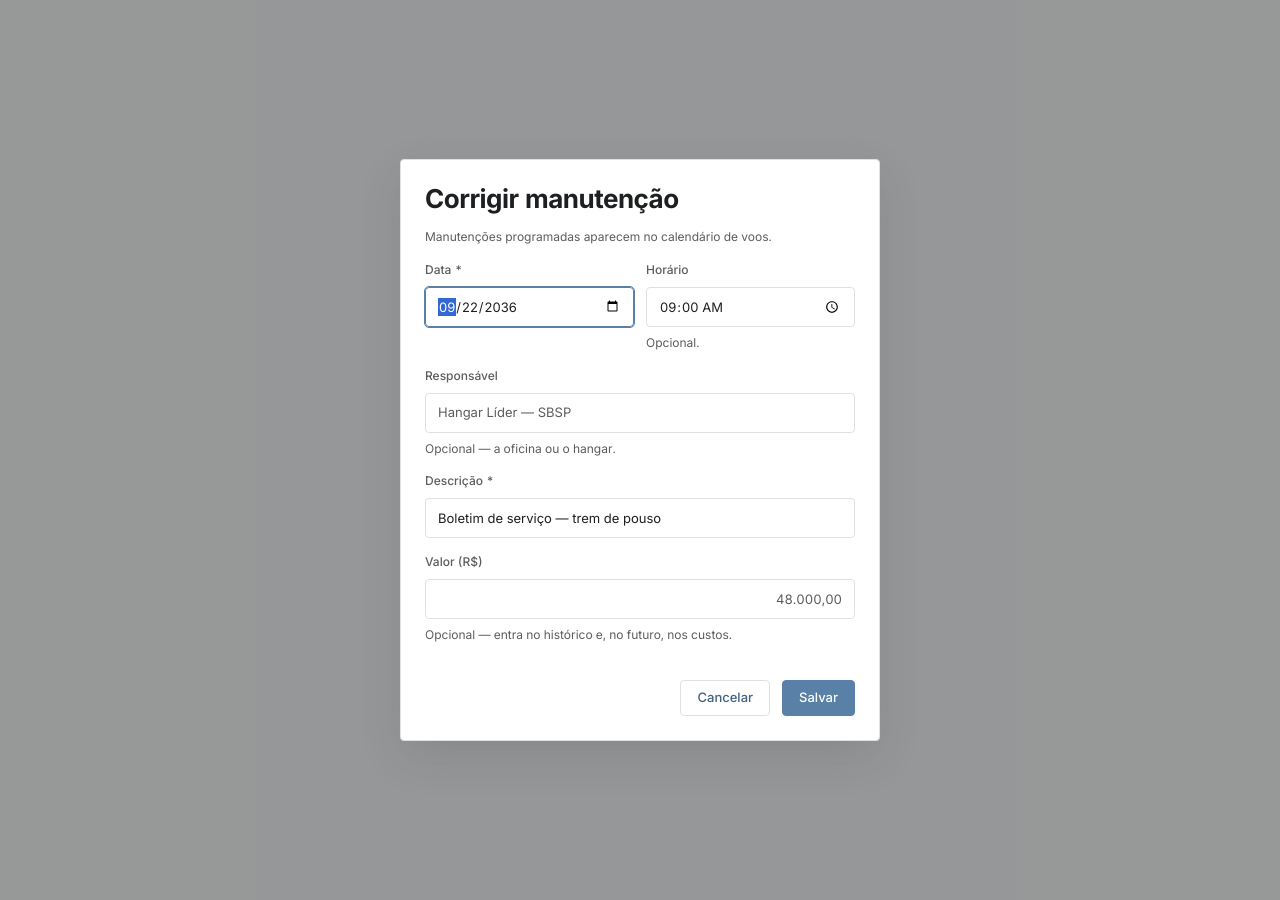
Test: PainelDeManutencaoAgendada › o horário digitado pela metade bloqueia o envio, em vez de apagar a hora gravada
Step 1. Clear the time field labelled "Horário" → (750, 307), box [646,287,855,327]
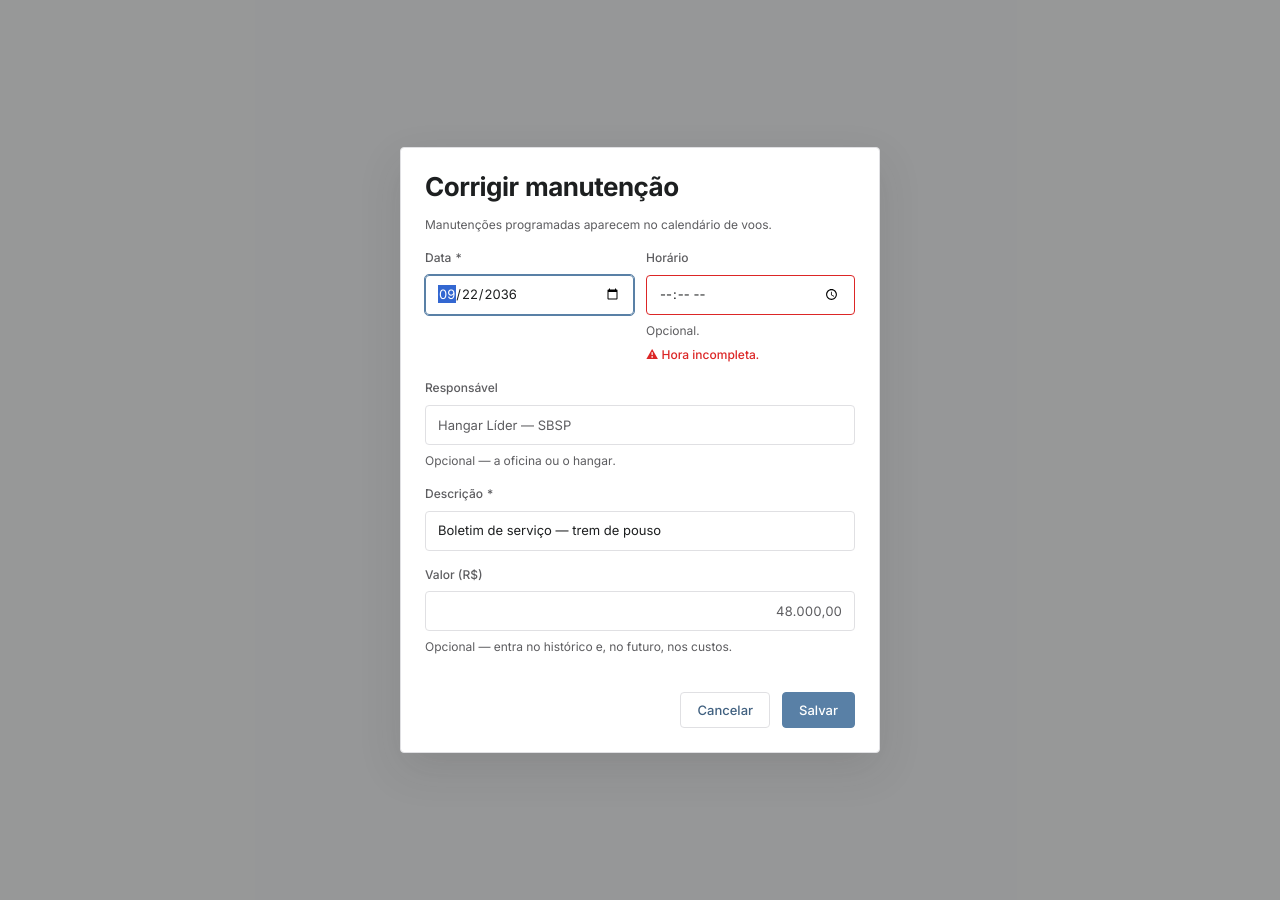
Step 2. Click the button "Salvar" → (818, 710), box [782,692,855,728]
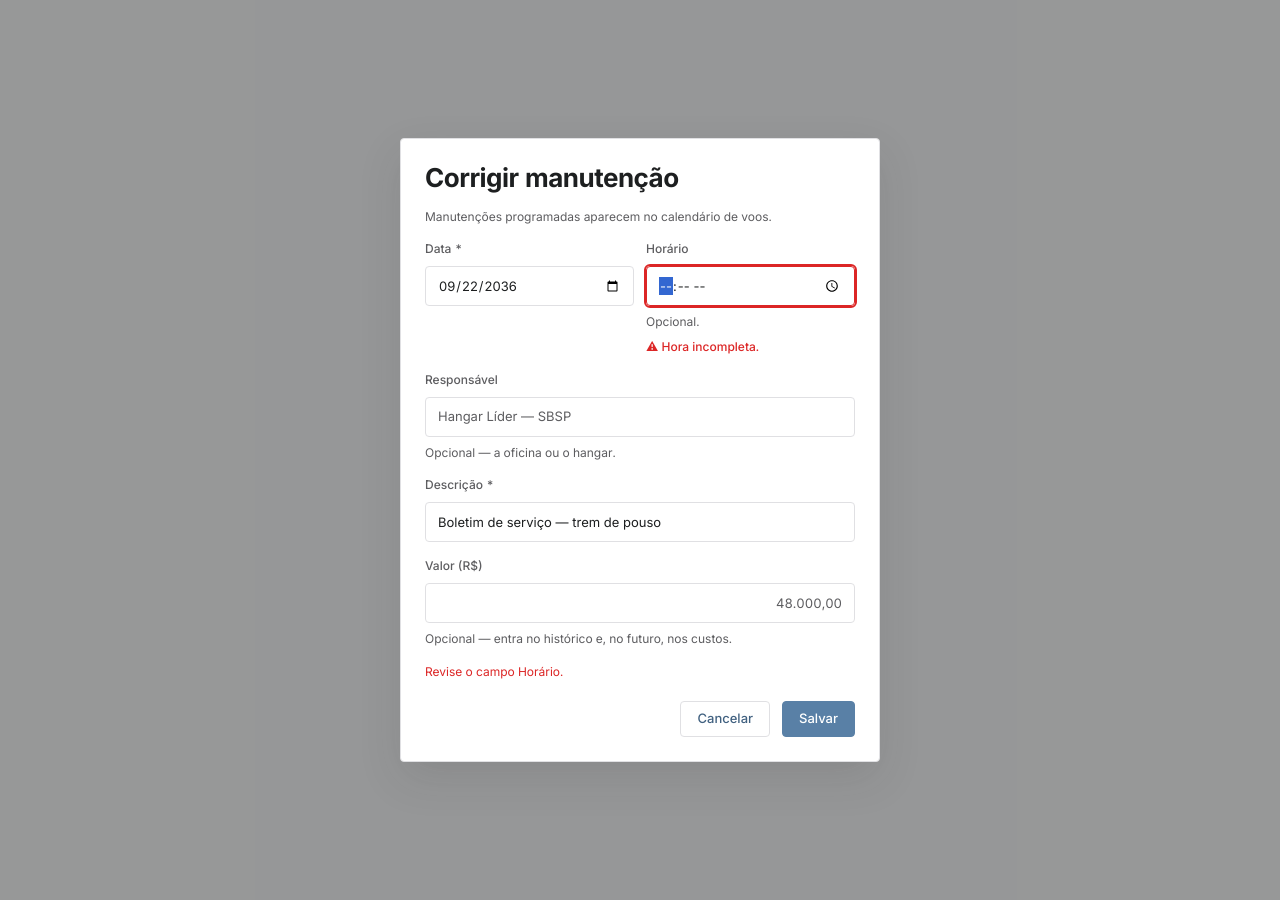
Now the message reads "Revise o campo Horário.", box [425,664,563,679]
